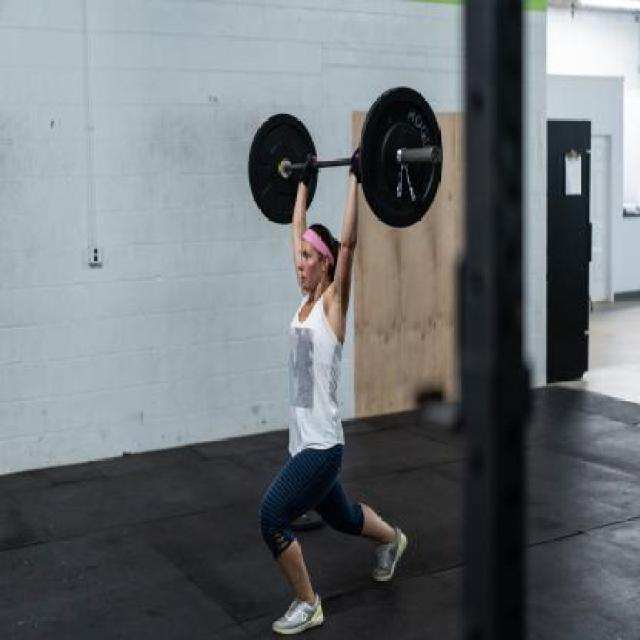barbell: (357, 74, 451, 239)
